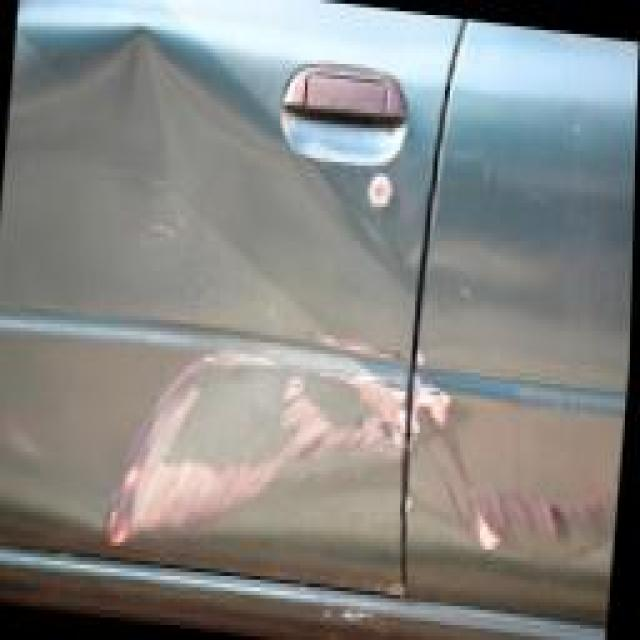Door: (0, 0, 428, 599), (406, 336, 629, 621)
